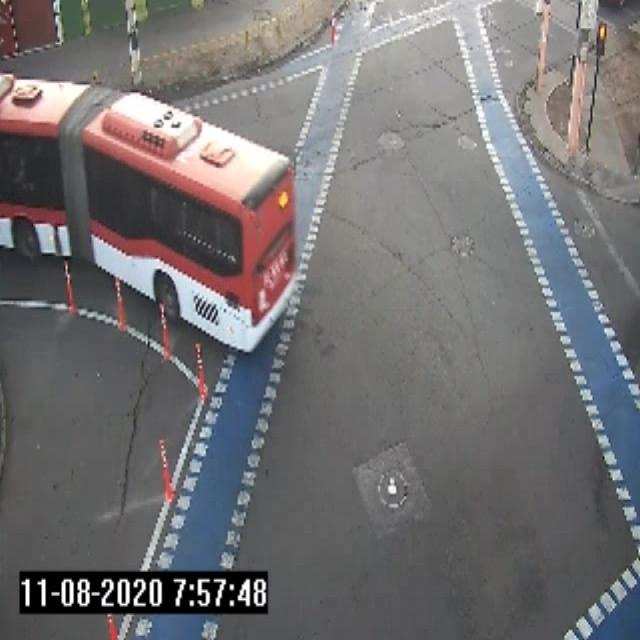AB: (1, 62, 313, 362)
